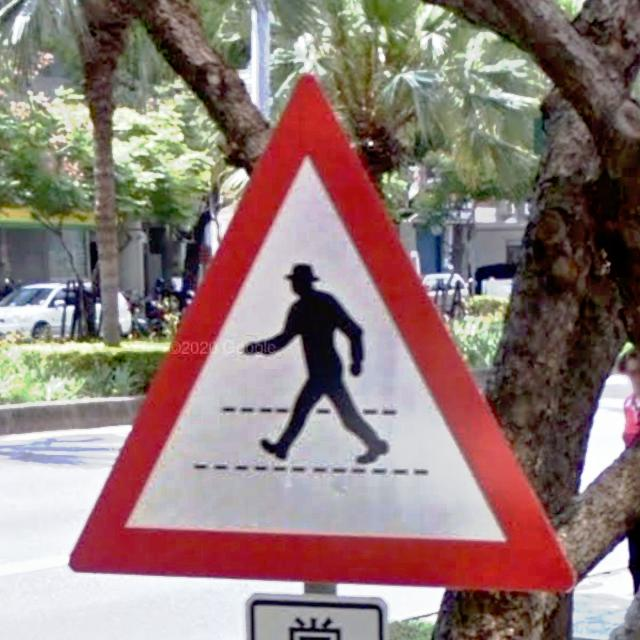pedestriancross: (68, 74, 579, 594)
